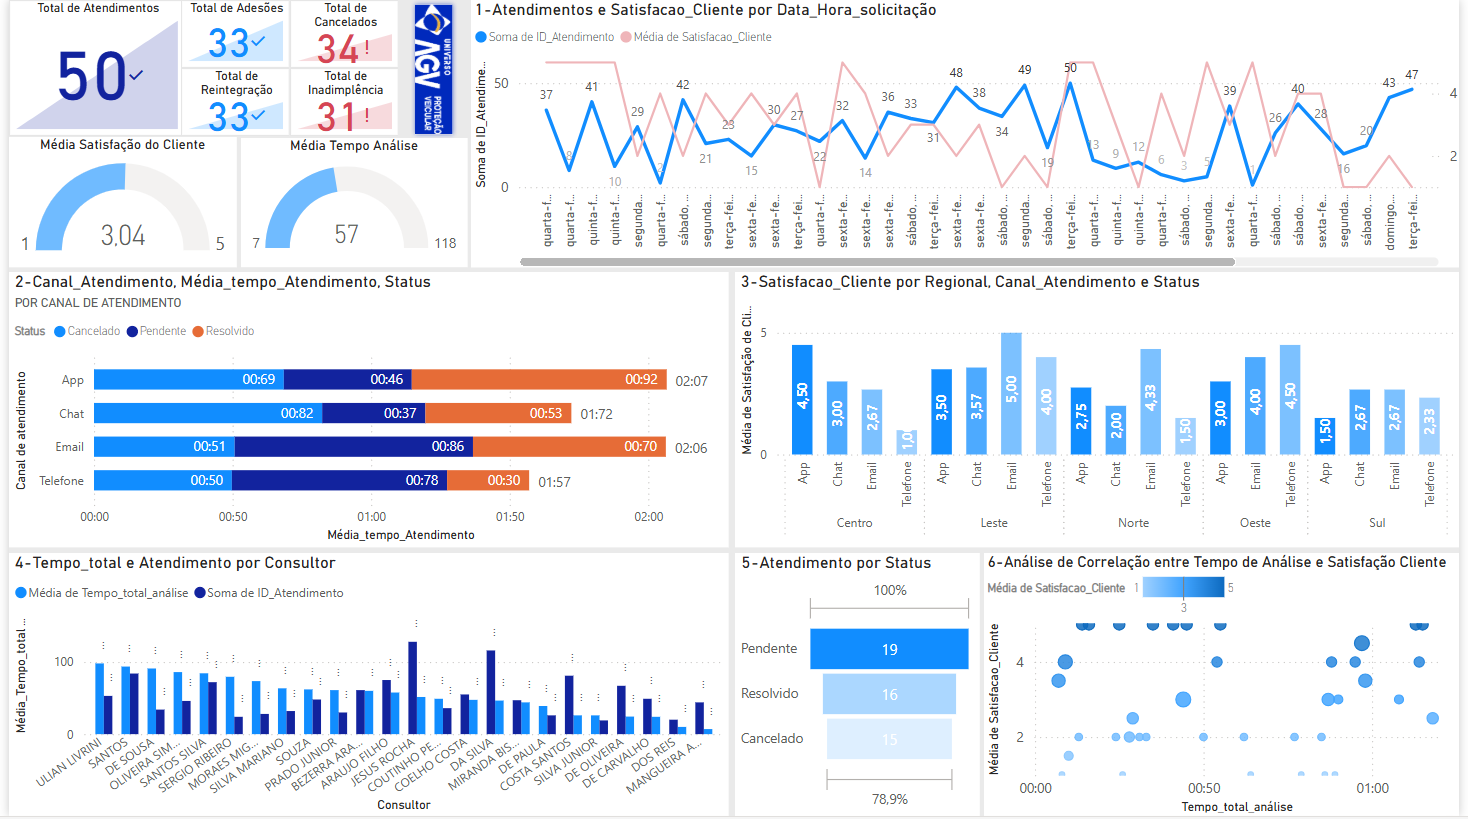

The page's visual inventory and layout, read from the dashboard file:
{"tool":"powerbi","page":{"name":"Dashboard 1","canvas":[1280,720],"ordinal":1},"visuals":[{"type":"clusteredColumnChart","title":"3-Satisfacao_Cliente por Regional, Canal_Atendimento e Status","fields":{"Category":["Sheet1.Regional","Sheet1.Canal_Atendimento","atendimentos_clientes_Universo_AVG.Status"],"Y":["Avg(Sheet1.Satisfacao_Cliente)"]},"box":[640.5,240.1,639.5,243],"z":0},{"type":"clusteredColumnChart","title":"4-Tempo_total e Atendimento por Consultor","fields":{"Category":["Sheet1.Consultor"],"Y":["Avg(atendimentos_clientes_Universo_AVG.Tempo_total_análise)","Sum(atendimentos_clientes_Universo_AVG.ID_Atendimento)"]},"box":[0,487.5,635,232.5],"z":1000},{"type":"gauge","title":"Média Tempo Análise","fields":{"Y":["Avg(atendimentos_clientes_Universo_AVG.Tempo_total_análise)"],"MinValue":["Min(atendimentos_clientes_Universo_AVG.Tempo_total_análise)"],"MaxValue":["Max(atendimentos_clientes_Universo_AVG.Tempo_total_análise)1"]},"box":[204.6,122,199.7,114.1],"z":2000},{"type":"funnel","title":"5-Atendimento por Status","fields":{"Category":["Sheet1.Status"],"Y":["CountNonNull(Sheet1.ID_Atendimento)"]},"box":[640.4,488,216.1,232.6],"z":3000},{"type":"lineChart","title":"1-Atendimentos e Satisfacao_Cliente por Data_Hora_solicitação","fields":{"Category":["Sheet1.Data_solicitação","atendimentos_clientes_Universo_AVG.Hora_solicitação"],"Y":["Sum(atendimentos_clientes_Universo_AVG.ID_Atendimento)"],"Y2":["Avg(atendimentos_clientes_Universo_AVG.Satisfacao_Cliente)"]},"box":[407.3,0,872.7,236.1],"z":4000},{"type":"gauge","title":"Média Satisfação do Cliente","fields":{"MinValue":["Min(atendimentos_clientes_Universo_AVG.Satisfacao_Cliente)"],"MaxValue":["Max(atendimentos_clientes_Universo_AVG.Satisfacao_Cliente)"],"Y":["Avg(atendimentos_clientes_Universo_AVG.Satisfacao_Cliente)1"]},"box":[0,121,200.7,115.1],"z":5000},{"type":"kpi","title":"Total de Atendimentos","fields":{"TrendLine":["Sheet1.ID_Atendimento"],"Goal":["CountNonNull(atendimentos_clientes_Universo_AVG.Status)"],"Indicator":["Sum(atendimentos_clientes_Universo_AVG.ID_Atendimento)"]},"box":[0,0,155.4,120],"z":6000},{"type":"kpi","title":"Total de Inadimplência","fields":{"Indicator":["CountNonNull(relatório_inadimplentes.Placa_veic_assoc)"],"Goal":["Sum(atendimentos_clientes_Universo_AVG.ID_Atendimento)"],"TrendLine":["relatório_inadimplentes.Situação"]},"box":[247.9,60,96.4,60],"z":7000},{"type":"kpi","title":"Total de Reintegração","fields":{"Goal":["Sum(atendimentos_clientes_Universo_AVG.ID_Atendimento)"],"TrendLine":["reintegrações.Situação atual"],"Indicator":["CountNonNull(reintegrações.Situação atual)"]},"box":[151.5,60,96.4,60],"z":8000},{"type":"kpi","title":"Total de Adesões","fields":{"Indicator":["CountNonNull(adesões.Situação atual)"],"TrendLine":["adesões.Situação atual"],"Goal":["Sum(atendimentos_clientes_Universo_AVG.ID_Atendimento)"]},"box":[151.5,0,96.4,60],"z":9000},{"type":"kpi","title":"Total de Cancelados","fields":{"Goal":["Sum(atendimentos_clientes_Universo_AVG.ID_Atendimento)"],"Indicator":["CountNonNull(cancelados_inativos.Situação atual)"],"TrendLine":["cancelados_inativos.Situação atual"]},"box":[247.9,0,96.4,60],"z":10000},{"type":"barChart","title":"2-Canal_Atendimento, Média_tempo_Atendimento, Status","fields":{"Category":["atendimentos_clientes_Universo_AVG.Canal_Atendimento"],"Series":["atendimentos_clientes_Universo_AVG.Status"],"Y":["Avg(atendimentos_clientes_Universo_AVG.Tempo_total_análise)"]},"box":[0,240.1,634.6,243],"z":11000},{"type":"actionButton","box":[354.8,0,40.8,122.3],"z":12000},{"type":"actionButton","box":[1263,703.4,17,17],"z":13000},{"type":"scatterChart","title":"6-Análise de Correlação entre Tempo de Análise e Satisfação Cliente","fields":{"Y":["Avg(atendimentos_clientes_Universo_AVG.Satisfacao_Cliente)"],"X":["atendimentos_clientes_Universo_AVG.Tempo_total_análise"],"Size":["Sum(atendimentos_clientes_Universo_AVG.Satisfacao_Cliente)1"]},"box":[860.5,487.5,419.9,232.5],"z":14000}]}

Visuals, with their boxes in screenshot pixels (x1, y1, x2, y2), scaled from the page's 1280x720 canvas onto the 1468x819 screenshot:
"3-Satisfacao_Cliente por Regional, Canal_Atendimento e Status" clusteredColumnChart: <box>735,273,1467,550</box>
"4-Tempo_total e Atendimento por Consultor" clusteredColumnChart: <box>0,555,728,818</box>
"Média Tempo Análise" gauge: <box>235,139,464,269</box>
"5-Atendimento por Status" funnel: <box>734,555,982,818</box>
"1-Atendimentos e Satisfacao_Cliente por Data_Hora_solicitação" lineChart: <box>467,0,1467,269</box>
"Média Satisfação do Cliente" gauge: <box>0,138,230,269</box>
"Total de Atendimentos" kpi: <box>0,0,178,136</box>
"Total de Inadimplência" kpi: <box>284,68,395,136</box>
"Total de Reintegração" kpi: <box>174,68,284,136</box>
"Total de Adesões" kpi: <box>174,0,284,68</box>
"Total de Cancelados" kpi: <box>284,0,395,68</box>
"2-Canal_Atendimento, Média_tempo_Atendimento, Status" barChart: <box>0,273,728,550</box>
actionButton: <box>407,0,454,139</box>
actionButton: <box>1449,800,1467,818</box>
"6-Análise de Correlação entre Tempo de Análise e Satisfação Cliente" scatterChart: <box>987,555,1467,818</box>
